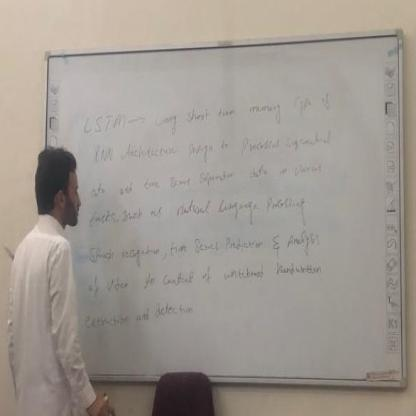Handwritten text: (80, 77, 338, 144), (78, 254, 333, 305), (82, 155, 332, 207), (79, 187, 315, 242), (91, 123, 339, 171), (83, 225, 325, 265), (81, 293, 199, 338)
Lecturer: (2, 141, 109, 416)
Whiteboard: (32, 22, 412, 400)
